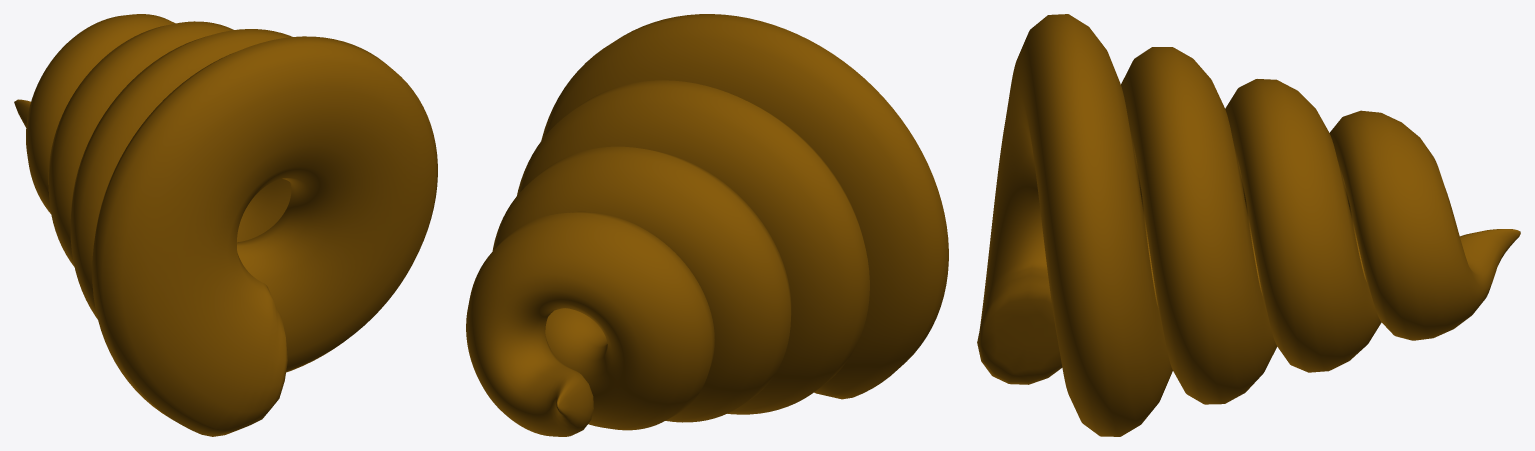
The picture shows the model from 3 angles, left to right: view 1: azimuth 30°, elevation 25°; view 2: azimuth 150°, elevation 25°; view 3: azimuth 270°, elevation 25°; orthographic projection. The views are drawn at different scales.
Visible parts, largest first — view 1: bianbian; view 2: bianbian; view 3: bianbian.
Part boxes in pixels (left/top/right/bottom): bianbian: left=14, top=14, right=437, bottom=436; bianbian: left=466, top=14, right=948, bottom=436; bianbian: left=977, top=14, right=1520, bottom=436.
Bounding box in the file's own units: 10.69 × 10.03 × 13.1.
